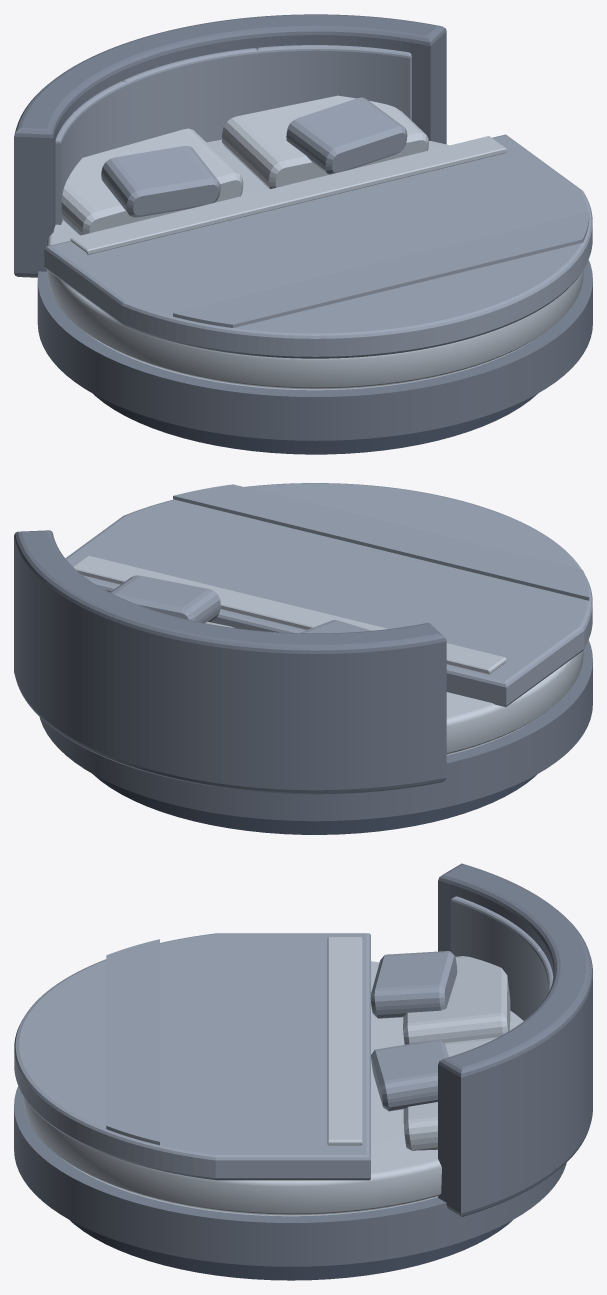
The model's file is round-double-bed.glb.
3 views of the same model, one above another, from view 1: azimuth 30°, elevation 25°; view 2: azimuth 150°, elevation 25°; view 3: azimuth 270°, elevation 25° (orthographic).
Visible parts, largest first — view 1: soft, body, light, accent, dark; view 2: body, soft, accent, light, dark; view 3: soft, body, light, accent, dark.
Part boxes in pixels (<box>): soft: <box>44,45,592,358</box>; body: <box>14,14,592,440</box>; light: <box>45,95,583,390</box>; accent: <box>101,97,589,327</box>; dark: <box>93,394,537,454</box>; body: <box>14,530,592,821</box>; soft: <box>65,483,592,706</box>; accent: <box>110,484,589,633</box>; light: <box>73,555,583,755</box>; dark: <box>93,774,537,834</box>; soft: <box>14,896,553,1180</box>; body: <box>14,863,592,1266</box>; light: <box>23,937,523,1216</box>; accent: <box>106,939,457,1145</box>; dark: <box>70,1220,512,1280</box>.
Bounding box in the file's own units: 2.07 × 0.871 × 2.16.
